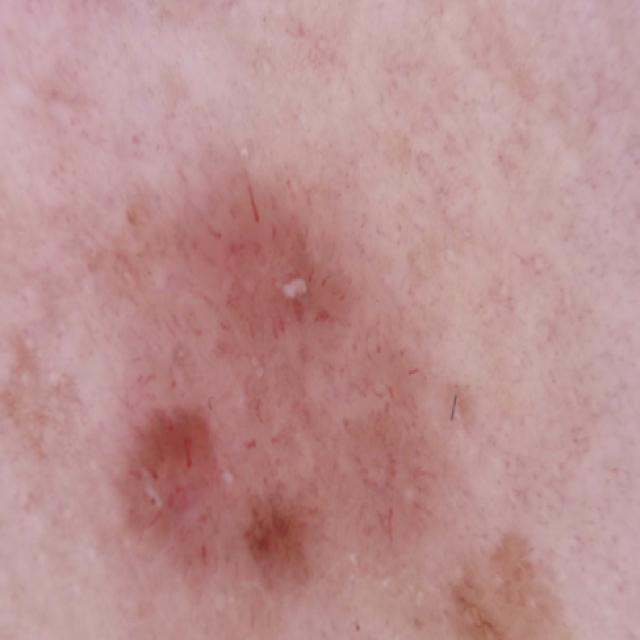Carcinoma: (161, 89, 505, 357), (402, 492, 615, 640), (126, 377, 245, 561), (256, 514, 337, 631)
